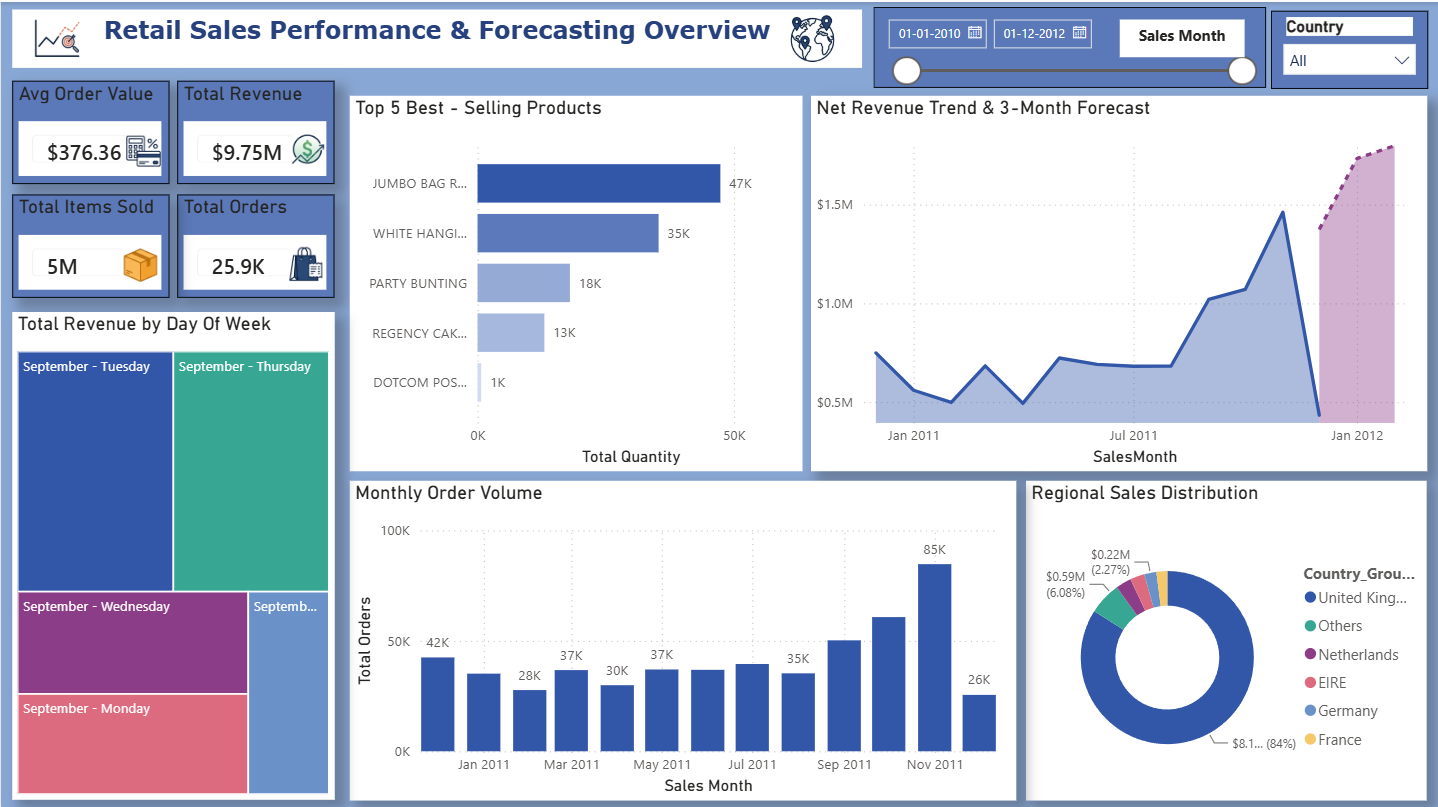

The page's visual inventory and layout, read from the dashboard file:
{"tool":"powerbi","page":{"name":"Page 1","canvas":[1280,720],"ordinal":0},"visuals":[{"type":"cardVisual","title":"Avg Order Value","fields":{"Data":["Calendar.Avg Order Value"]},"box":[9.7,70,139.9,91.7],"z":0},{"type":"textbox","box":[10,7,756.7,51.7],"z":1000},{"type":"slicer","title":"Sales Month","fields":{"Values":["Calendar.SalesMonth"]},"box":[776.9,4.8,349.9,72.4],"z":2000},{"type":"cardVisual","title":"Total Revenue","fields":{"Data":["Sum(public cleaned_retail_sales.line_total)"]},"box":[156.8,70,139.9,91.7],"z":3000},{"type":"cardVisual","title":"Total Orders","fields":{"Data":["Count(public cleaned_retail_sales.invoice_no)"]},"box":[156.8,171.3,139.9,91.7],"z":4000},{"type":"cardVisual","title":"Total Items Sold","fields":{"Data":["Sum(public cleaned_retail_sales.quantity)"]},"box":[9.7,171.3,139.9,91.7],"z":5000},{"type":"lineChart","title":"Net Revenue Trend & 3-Month Forecast","fields":{"Y":["Sum(public cleaned_retail_sales.line_total)","Sum(public forecasted_retail_sales.forecasted_revenue)"],"Category":["Calendar.SalesMonth"]},"box":[721.5,83.2,548.9,334.2],"z":6000},{"type":"slicer","fields":{"Values":["public cleaned_retail_sales.country"]},"box":[1130.4,7.2,139.9,70],"z":7000},{"type":"clusteredBarChart","title":"Top 5 Best - Selling Products","fields":{"Category":["public cleaned_retail_sales.description"],"Y":["Sum(public cleaned_retail_sales.quantity)"]},"box":[310.1,83.2,403,334.2],"z":8000},{"type":"donutChart","title":"Regional Sales Distribution","fields":{"Y":["Sum(public cleaned_retail_sales.line_total)"],"Category":["public cleaned_retail_sales.Country_Grouped"]},"box":[913.3,425.9,357.1,284.7],"z":9000},{"type":"clusteredColumnChart","title":"Monthly Order Volume","fields":{"Category":["Calendar.SalesMonth"],"Y":["CountNonNull(public cleaned_retail_sales.invoice_no)"]},"box":[310.1,425.9,593.6,284.7],"z":10000},{"type":"textbox","box":[996.5,15.7,111,33.8],"z":11000},{"type":"treemap","title":"Total Revenue by Day Of Week","fields":{"Group":["public cleaned_retail_sales.DayOfWeek"],"Values":["Sum(public cleaned_retail_sales.line_total)"]},"box":[9.7,276.3,287.1,434.3],"z":12000},{"type":"image","box":[26.5,10.9,49.5,43.4],"z":13000},{"type":"image","box":[255.8,217.2,30.2,32.6],"z":14000},{"type":"image","box":[108.6,217.2,30.2,33.8],"z":15000},{"type":"image","box":[698.5,10.9,47.1,43.4],"z":16000},{"type":"image","box":[258.2,118.2,30.2,26.5],"z":17000},{"type":"image","box":[111,118.2,31.4,30.2],"z":18000}]}

Visuals, with their boxes in screenshot pixels (x1, y1, x2, y2), scaled from the page's 1280x720 canvas onto the 1438x807 screenshot:
"Avg Order Value" cardVisual: box(11, 78, 168, 181)
textbox: box(11, 8, 861, 66)
"Sales Month" slicer: box(873, 5, 1266, 87)
"Total Revenue" cardVisual: box(176, 78, 333, 181)
"Total Orders" cardVisual: box(176, 192, 333, 295)
"Total Items Sold" cardVisual: box(11, 192, 168, 295)
"Net Revenue Trend & 3-Month Forecast" lineChart: box(811, 93, 1427, 468)
slicer - public cleaned_retail_sales.country: box(1270, 8, 1427, 87)
"Top 5 Best - Selling Products" clusteredBarChart: box(348, 93, 801, 468)
"Regional Sales Distribution" donutChart: box(1026, 477, 1427, 796)
"Monthly Order Volume" clusteredColumnChart: box(348, 477, 1015, 796)
textbox: box(1120, 18, 1244, 55)
"Total Revenue by Day Of Week" treemap: box(11, 310, 333, 796)
image: box(30, 12, 85, 61)
image: box(287, 243, 321, 280)
image: box(122, 243, 156, 281)
image: box(785, 12, 838, 61)
image: box(290, 132, 324, 162)
image: box(125, 132, 160, 166)
